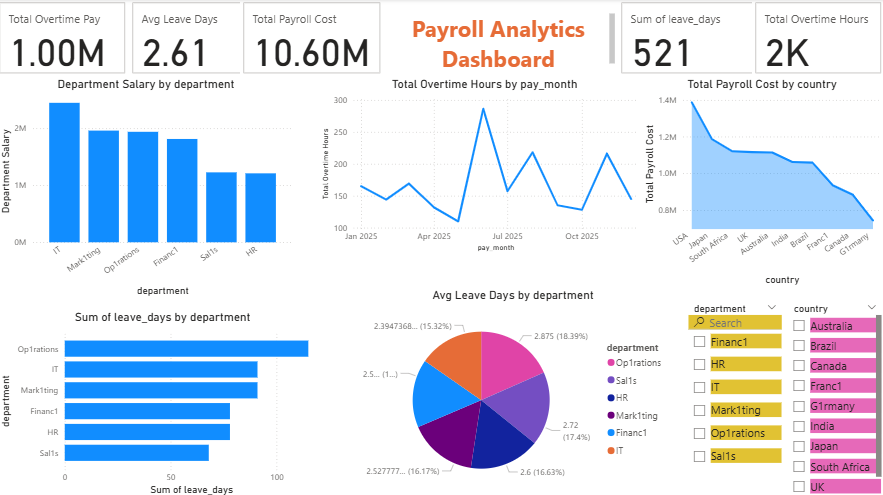

What the dashboard file says about the page in this screenshot:
{"tool":"powerbi","page":{"name":"Payroll Analytics Dashboard","canvas":[1280,720],"ordinal":0},"visuals":[{"type":"clusteredColumnChart","fields":{"Category":["payrolldata.department"],"Y":["payrolldata.Department Salary"]},"box":[0,112,432,320],"z":0},{"type":"lineChart","fields":{"Category":["payrolldata.pay_month"],"Y":["payrolldata.Total Overtime Hours"]},"box":[464,112,480,256],"z":1000},{"type":"barChart","fields":{"Category":["payrolldata.department"],"Y":["Sum(payrolldata.leave_days)"]},"box":[0,448,480,272],"z":2000},{"type":"pieChart","fields":{"Y":["payrolldata.Avg Leave Days"],"Category":["payrolldata.department"]},"box":[512,416,464,304],"z":3000},{"type":"areaChart","fields":{"Y":["payrolldata.Total Payroll Cost"],"Category":["payrolldata.country"]},"box":[928,112,352,304],"z":4000},{"type":"slicer","fields":{"Values":["payrolldata.country"]},"box":[1136,432,144,288],"z":5000},{"type":"slicer","fields":{"Values":["payrolldata.department"]},"box":[992,432,144,288],"z":6000},{"type":"textbox","box":[560,16,336,96],"z":7000},{"type":"cardVisual","fields":{"Data":["payrolldata.Total Overtime Pay"]},"box":[0,0,192,112],"z":8000},{"type":"cardVisual","fields":{"Data":["payrolldata.Avg Leave Days"]},"box":[192,0,176,112],"z":9000},{"type":"cardVisual","fields":{"Data":["payrolldata.Total Payroll Cost"]},"box":[352,0,208,112],"z":10000},{"type":"cardVisual","fields":{"Data":["Sum(payrolldata.leave_days)"]},"box":[896,0,208,112],"z":11000},{"type":"cardVisual","fields":{"Data":["payrolldata.Total Overtime Hours"]},"box":[1088,0,192,112],"z":12000}]}

Visuals, with their boxes in screenshot pixels (x1, y1, x2, y2), scaled from the page's 1280x720 canvas onto the 883x495 screenshot:
clusteredColumnChart - payrolldata.department x payrolldata.Department Salary: crop(0, 77, 298, 297)
lineChart - payrolldata.pay_month x payrolldata.Total Overtime Hours: crop(320, 77, 651, 253)
barChart - payrolldata.department x Sum(payrolldata.leave_days): crop(0, 308, 331, 494)
pieChart - payrolldata.Avg Leave Days x payrolldata.department: crop(353, 286, 673, 494)
areaChart - payrolldata.Total Payroll Cost x payrolldata.country: crop(640, 77, 882, 286)
slicer - payrolldata.country: crop(784, 297, 882, 494)
slicer - payrolldata.department: crop(684, 297, 784, 494)
textbox: crop(386, 11, 618, 77)
cardVisual - payrolldata.Total Overtime Pay: crop(0, 0, 132, 77)
cardVisual - payrolldata.Avg Leave Days: crop(132, 0, 254, 77)
cardVisual - payrolldata.Total Payroll Cost: crop(243, 0, 386, 77)
cardVisual - Sum(payrolldata.leave_days): crop(618, 0, 762, 77)
cardVisual - payrolldata.Total Overtime Hours: crop(751, 0, 882, 77)
